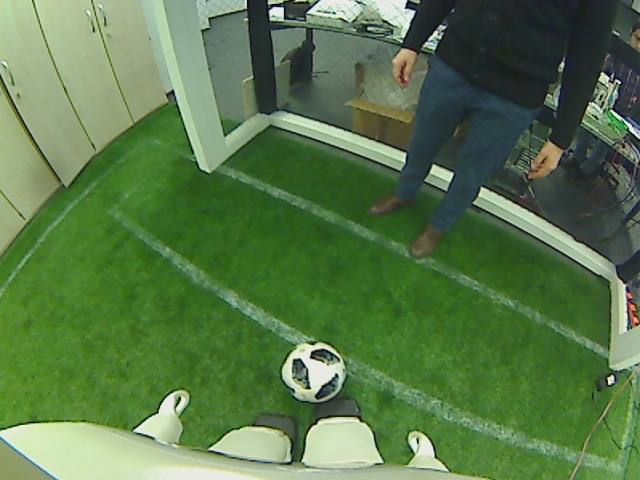ball: (278, 339, 348, 405)
